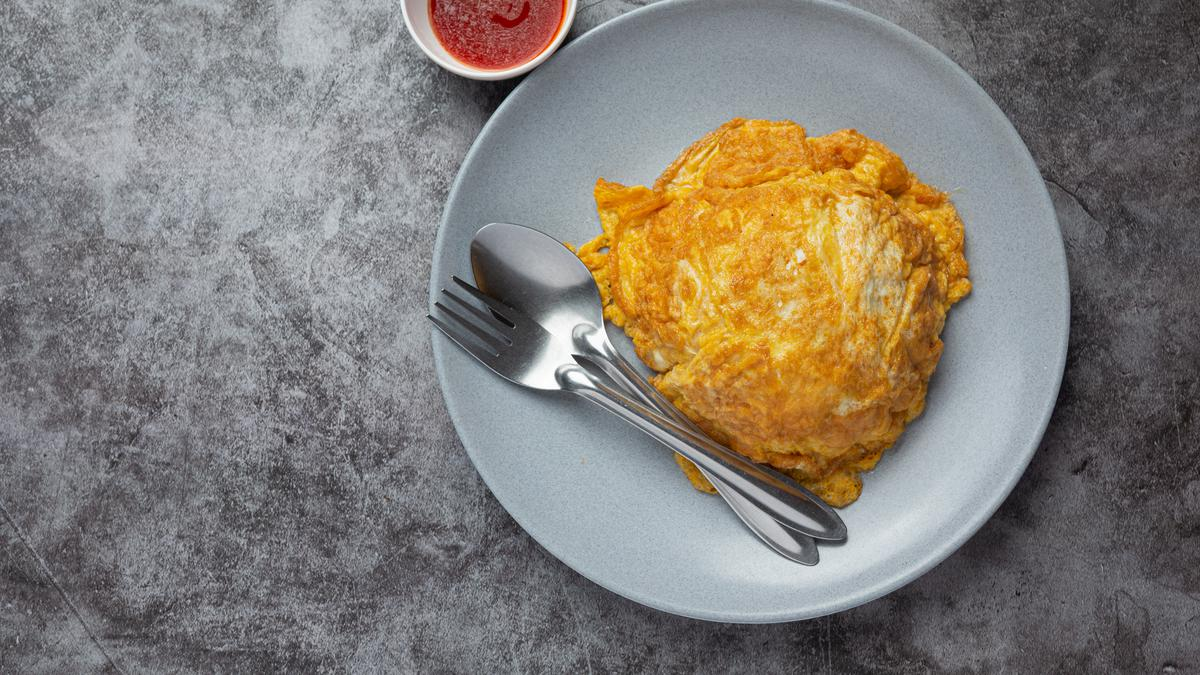telur: (658, 174, 926, 399)
